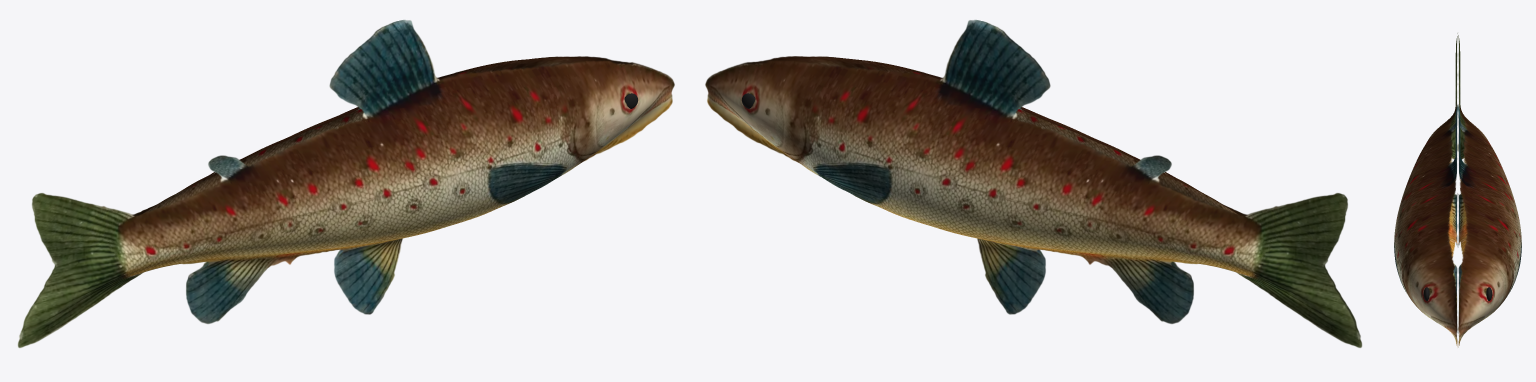
The model's file is truite-fario.glb.
3 views of the same model, side by side, from view 1: azimuth 30°, elevation 25°; view 2: azimuth 150°, elevation 25°; view 3: azimuth 270°, elevation 25° (orthographic). The views are drawn at different scales.
Visible parts, largest first — view 1: truite-fario; view 2: truite-fario; view 3: truite-fario.
Part boxes in pixels (bbox=[...]): truite-fario: bbox=[18, 19, 674, 347]; truite-fario: bbox=[705, 19, 1361, 347]; truite-fario: bbox=[1394, 33, 1521, 347].
Bounding box in the file's own units: 1 × 0.4194 × 0.2008.
2 materials, 1 textured.
